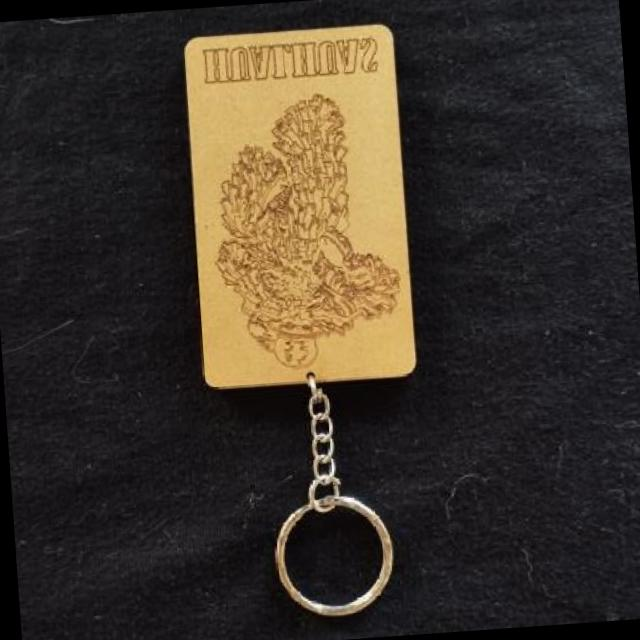Llavero: (202, 88, 406, 376)
